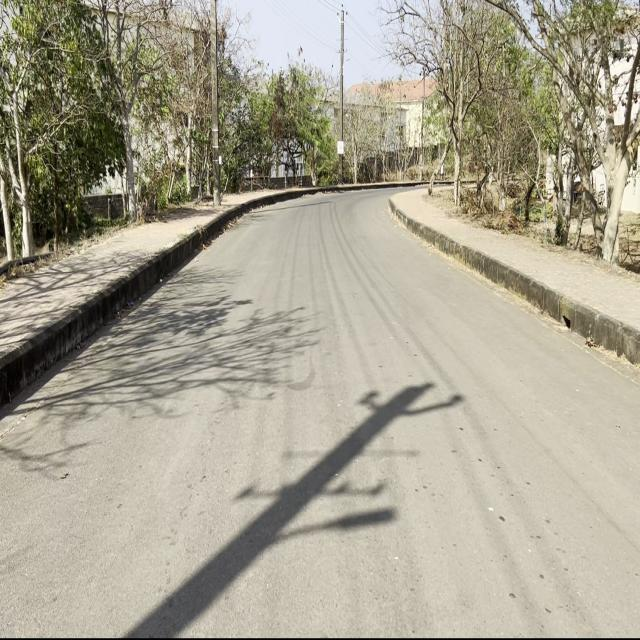Road: (5, 191, 638, 633)
